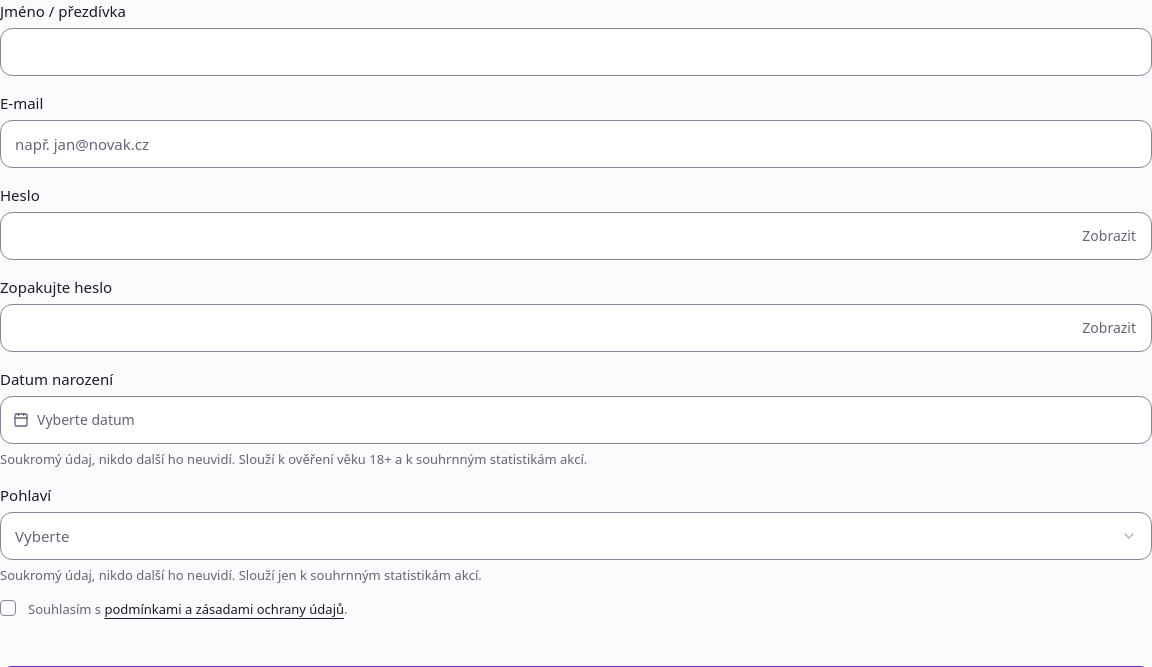
Test case: SignUpForm › flags a short password after leaving the field and re-checks the repeat when the password changes
In the password field labelled "Heslo": (576,236) [0,212,1151,260], type "short"
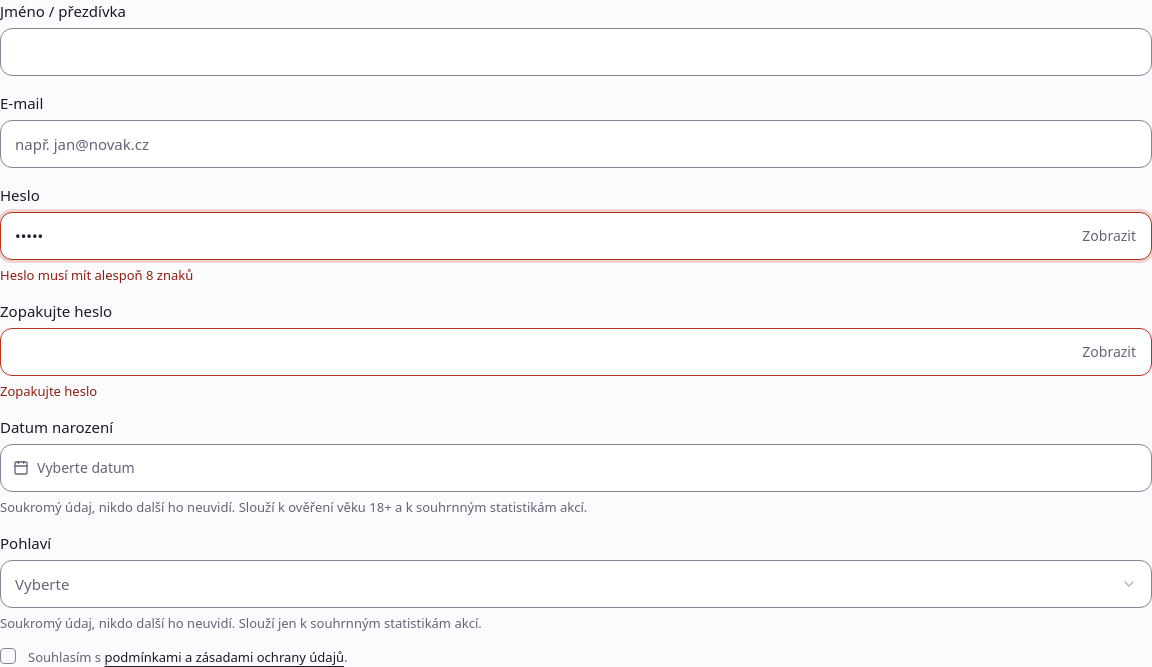
Press Tab
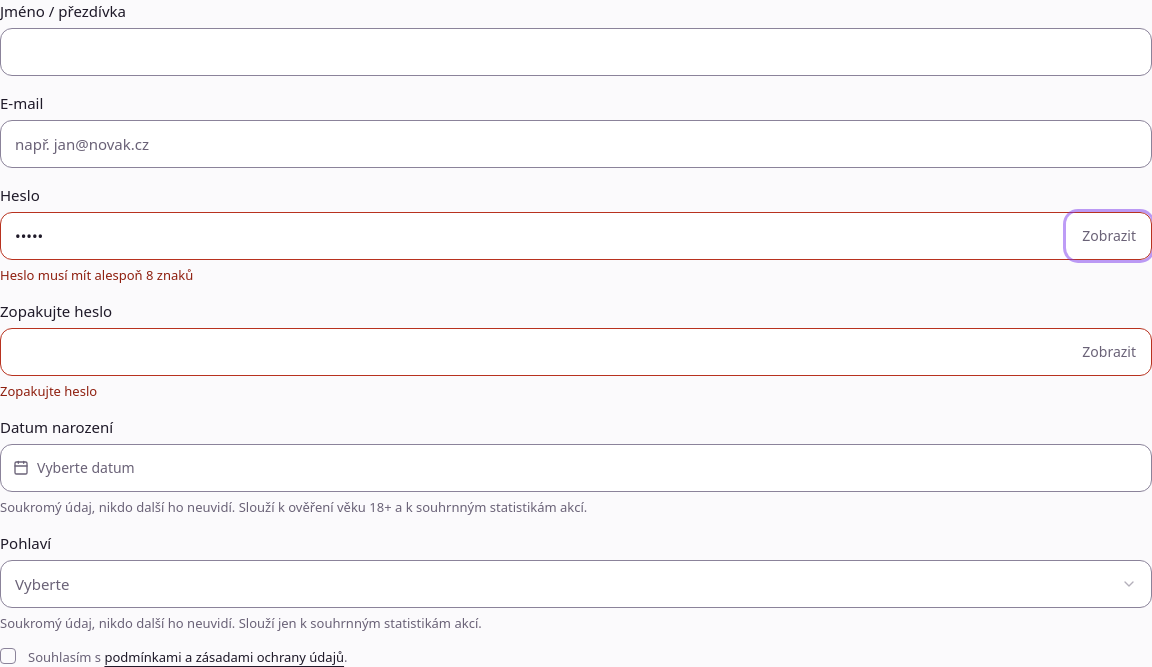
Check: the text "Heslo musí mít alespoň 8 znaků" is shown, box [0,266,193,284]
In the password field labelled "Zopakujte heslo": (576,352) [0,328,1151,376], type "shortt"
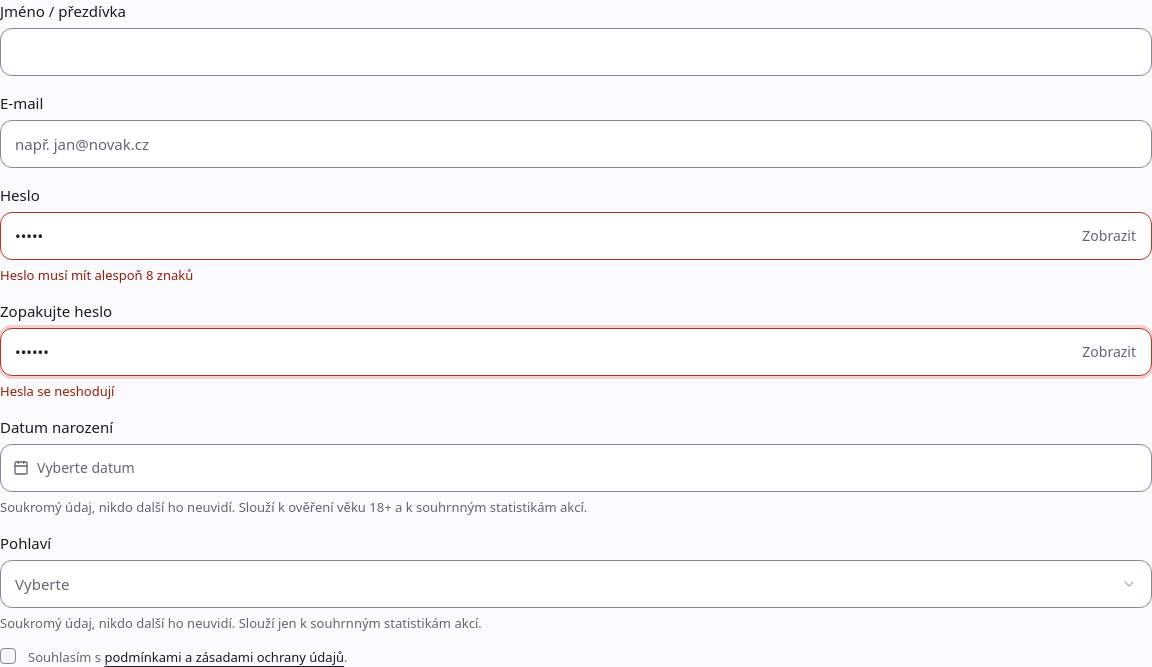
Press Tab
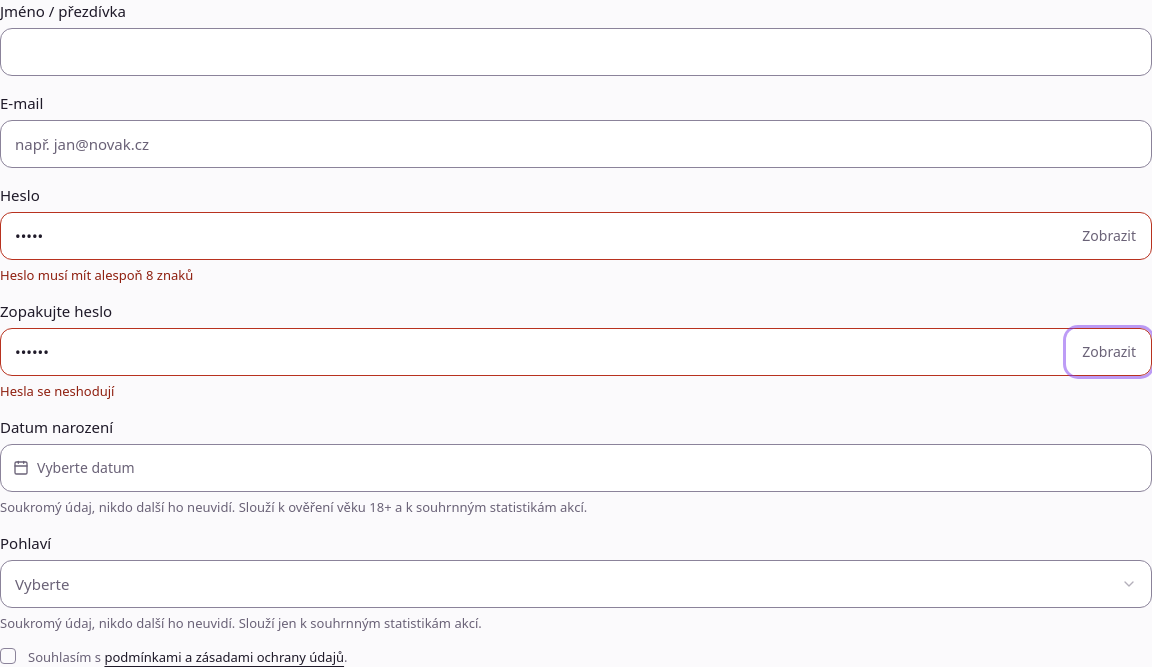
Check: the text "Hesla se neshodují" is shown, box [0,382,114,400]
In the password field labelled "Heslo": (576,236) [0,212,1151,260], type "t"
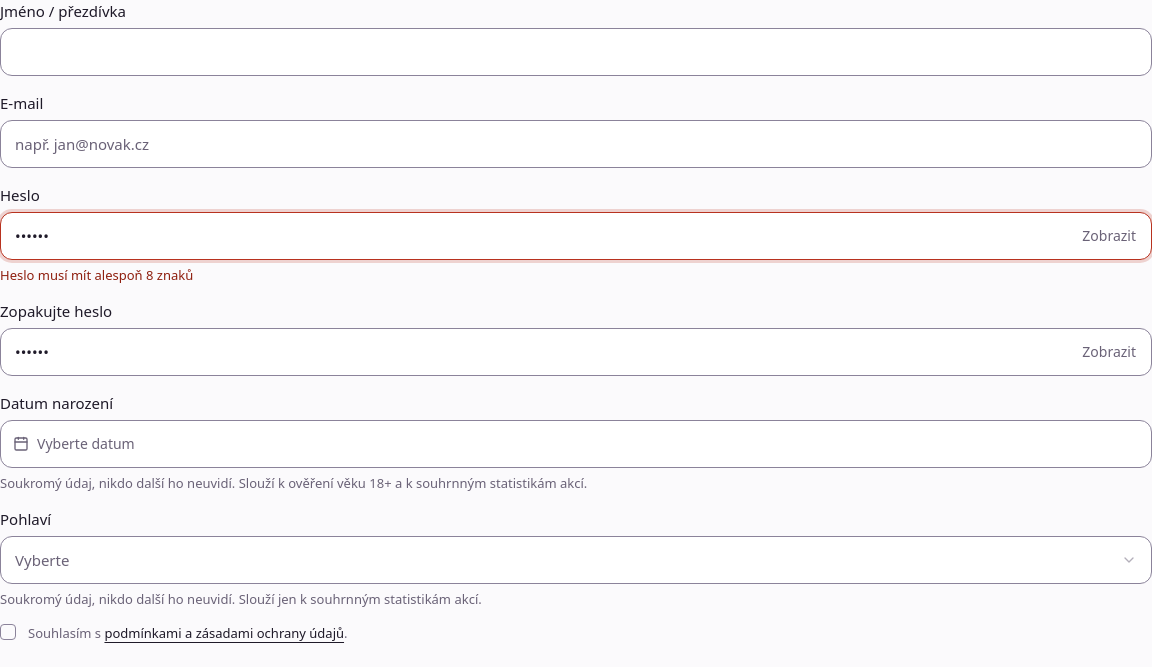
Check: the text "Hesla se neshodují" is gone
